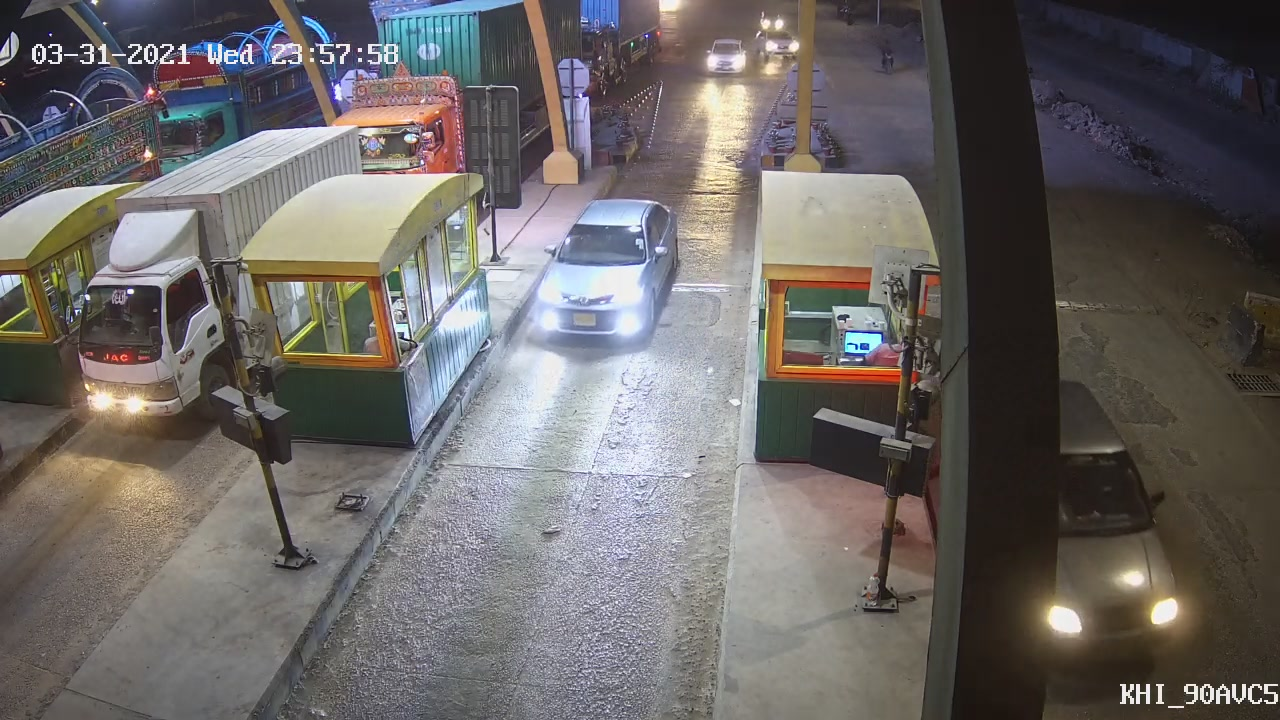F1: (528, 190, 685, 367)
